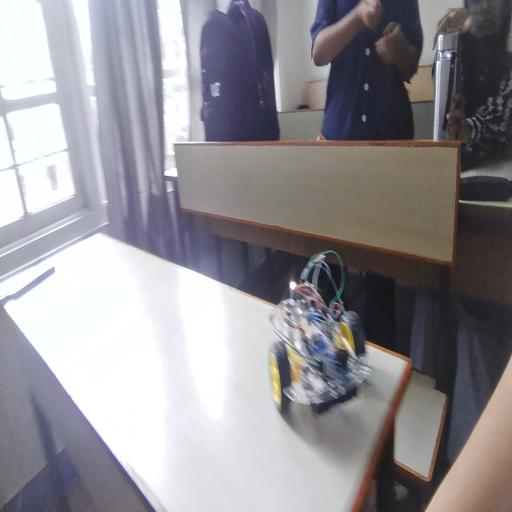car: (270, 261, 372, 414)
